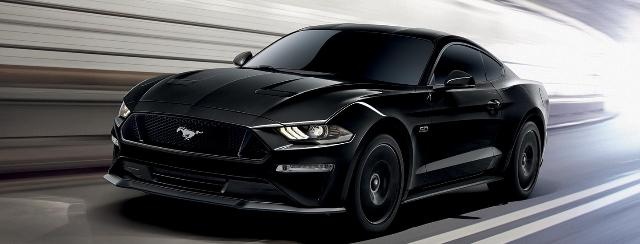ford-mustang: (102, 23, 550, 237)
